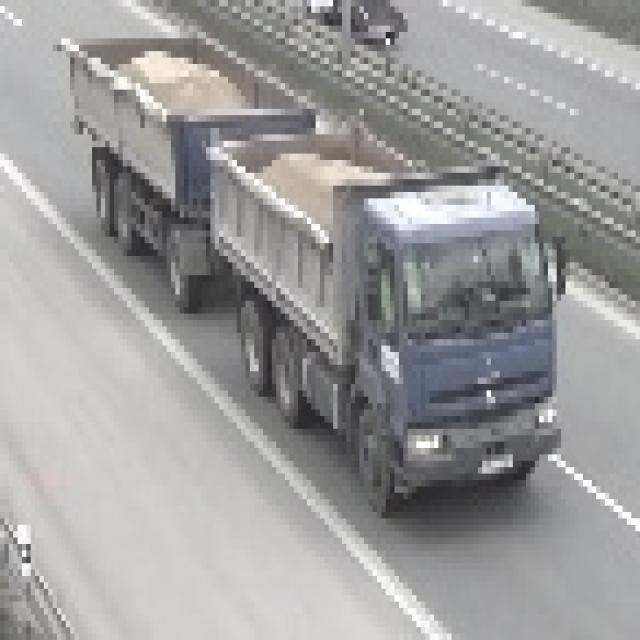truck: (70, 26, 574, 506)
